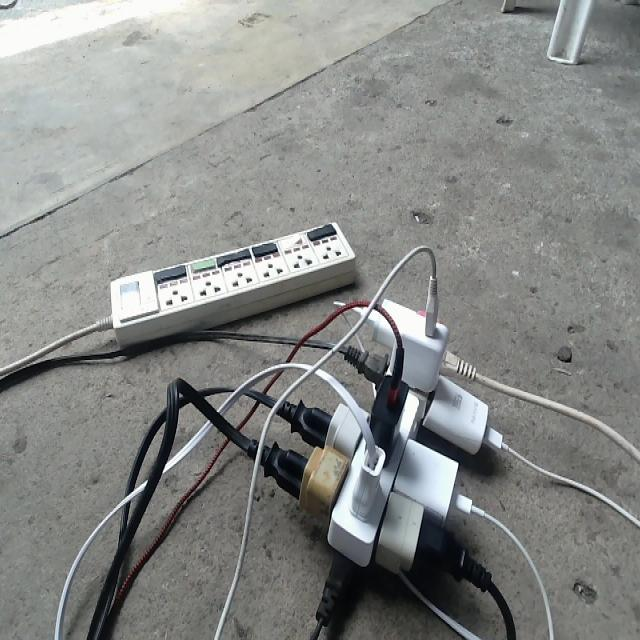-: (254, 250, 507, 630)
